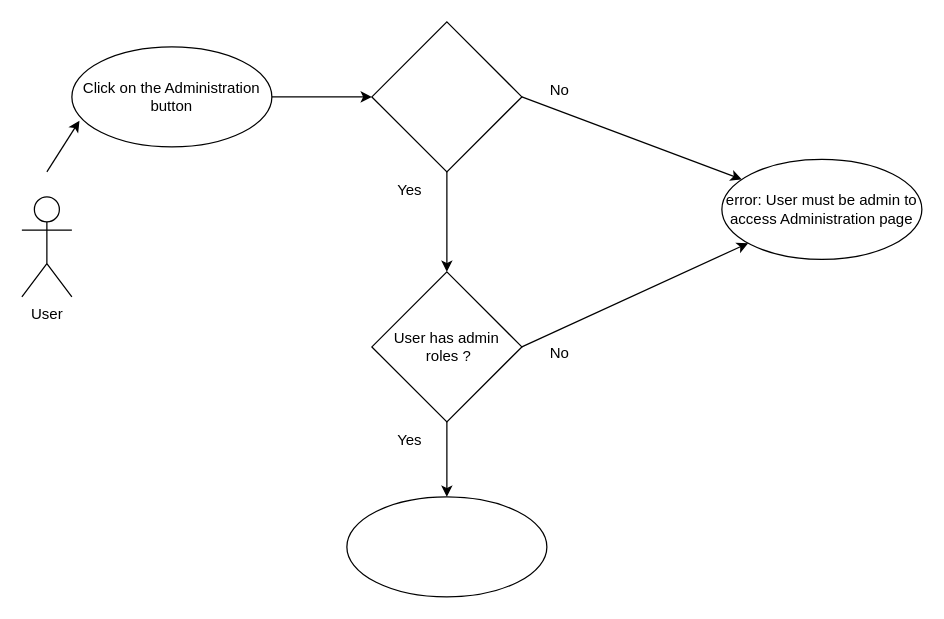
Some shapes in this 944 by 619 pixel diagram are drawn without their labels. Here are the shapes that lost their labels. From the top down, the centre of each, then its label:
At (446,96): "User is logged in ?".
At (446,546): "content is validated".
